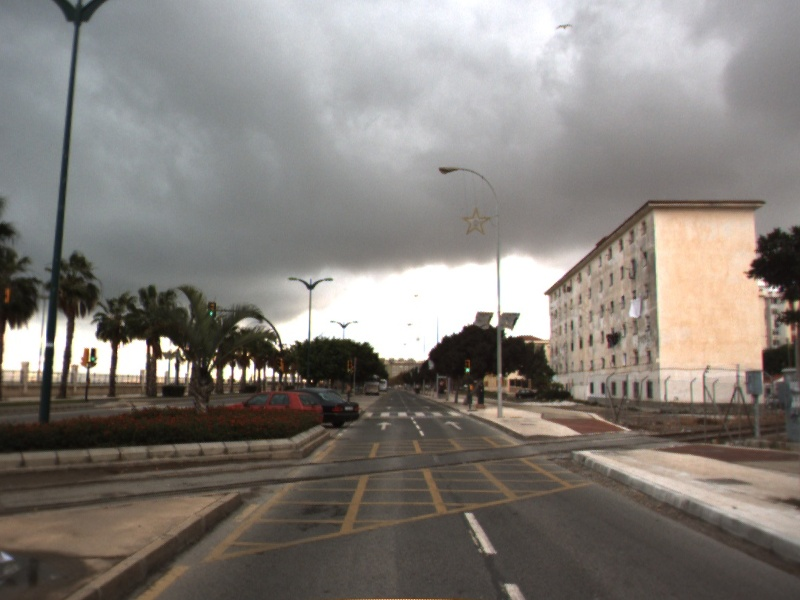STRAIGHT: (442, 418, 464, 431), (375, 420, 394, 432)
